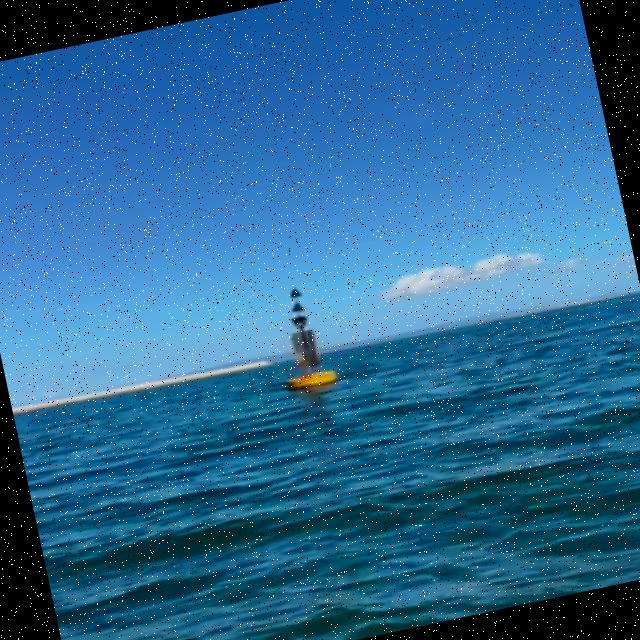marque: (263, 282, 341, 395)
